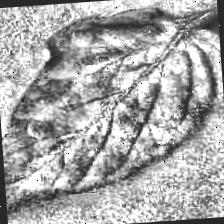leaf mold: (0, 1, 224, 224)
